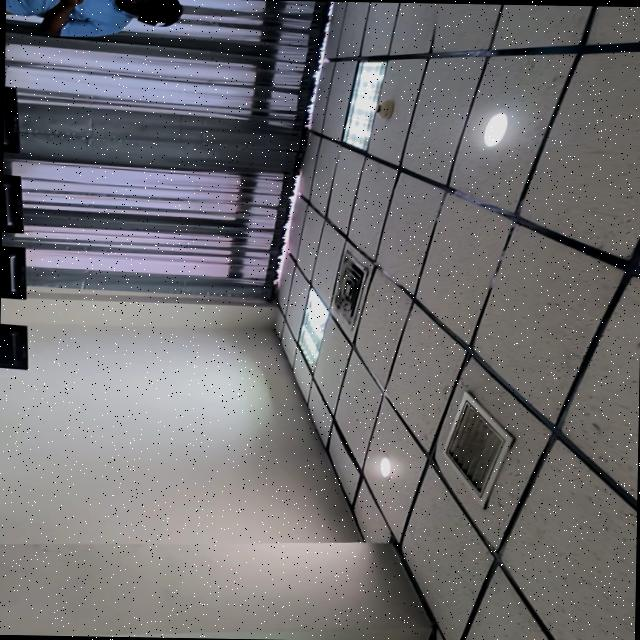Light: (343, 60, 387, 148), (298, 287, 329, 368), (484, 111, 507, 145), (379, 456, 391, 478)
Monitor: (0, 246, 26, 297), (0, 323, 28, 369), (2, 174, 23, 232), (3, 86, 19, 152)
